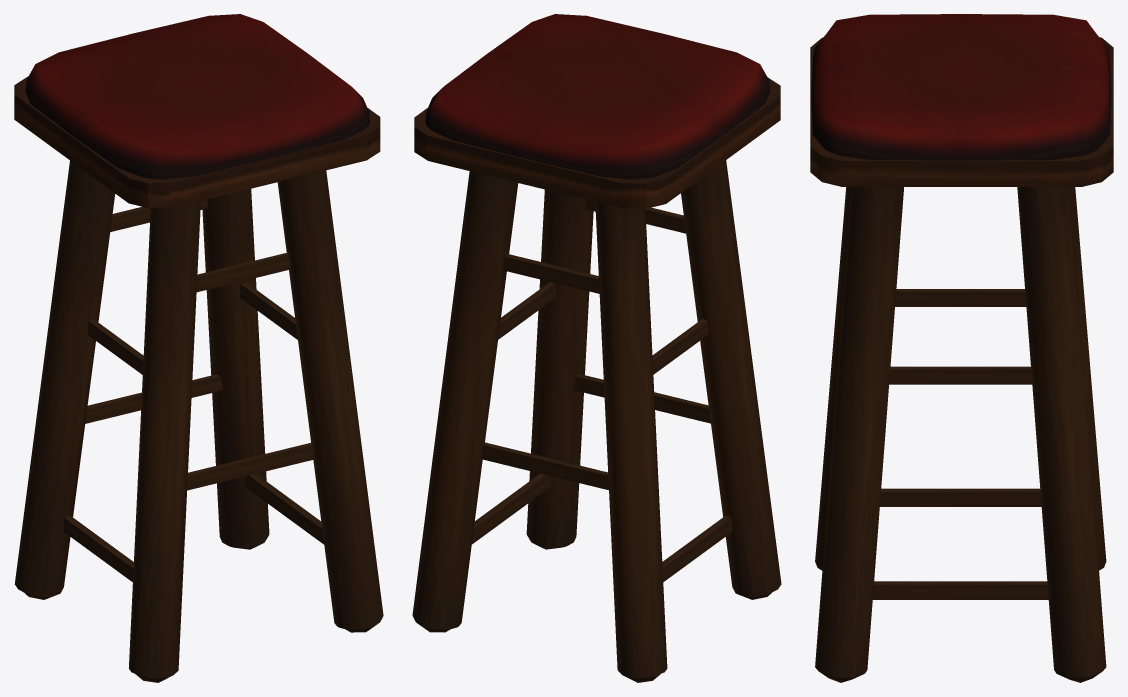
The model's file is Stool_A.fbx.
3 views of the same model, side by side, from view 1: azimuth 30°, elevation 25°; view 2: azimuth 150°, elevation 25°; view 3: azimuth 270°, elevation 25° (orthographic). The views are drawn at different scales.
Parts seen in each view (by area): view 1: Stool_Legs_A, Stool_Cushion_B, Stool_Supports_A, Stool_Base_B; view 2: Stool_Legs_A, Stool_Cushion_B, Stool_Supports_A, Stool_Base_B; view 3: Stool_Legs_A, Stool_Cushion_B, Stool_Supports_A, Stool_Base_B.
Boxes of the visible parts, x1,y1,x2,y2 form: Stool_Legs_A: (14,160,383,682); Stool_Cushion_B: (25,14,369,179); Stool_Supports_A: (63,199,324,582); Stool_Base_B: (14,76,380,208); Stool_Legs_A: (412,160,781,682); Stool_Cushion_B: (425,14,769,179); Stool_Supports_A: (472,199,732,581); Stool_Base_B: (414,77,780,208); Stool_Legs_A: (815,187,1106,682); Stool_Cushion_B: (811,14,1111,160); Stool_Supports_A: (872,289,1048,599); Stool_Base_B: (810,37,1113,186).
Size of the model in its own units: 4.88 by 9.93 by 4.88.
